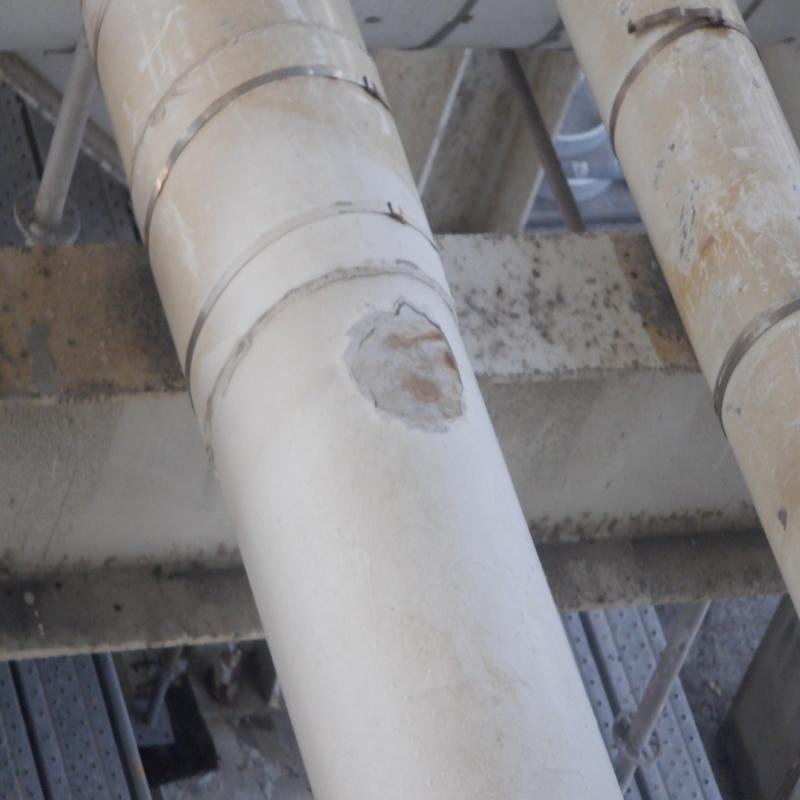corrosion: (412, 330, 466, 367)
